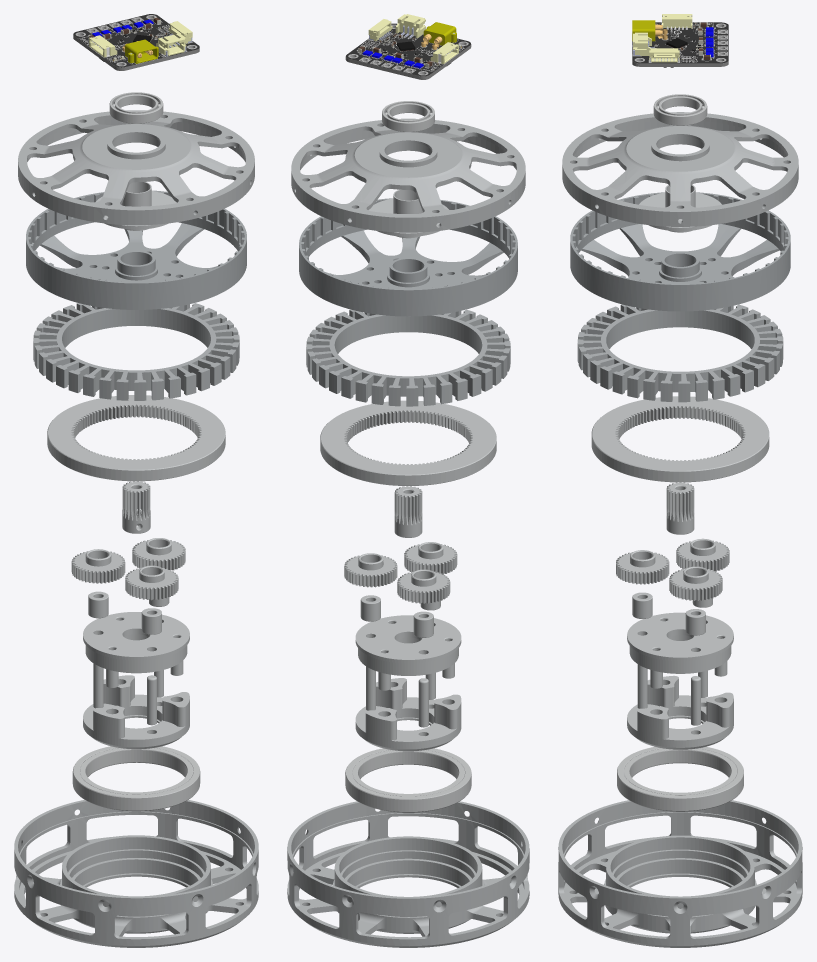
File: actuator.meshopt.glb
3 views of the same model, side by side, from view 1: azimuth 30°, elevation 25°; view 2: azimuth 150°, elevation 25°; view 3: azimuth 270°, elevation 25° (orthographic).
Visible parts, largest first — view 1: Front housing, Back housing, Motor rotor, Motor stator, Ring gear, Planet carrier / upper, Planet carrier / lower, Controller / moteus C1, Output bearing / 06, Output bearing / 02, Planet gear B, Planet gear A (+7 smaller); view 2: Front housing, Back housing, Motor rotor, Motor stator, Ring gear, Planet carrier / upper, Controller / moteus C1, Planet carrier / lower, Output bearing / 06, Output bearing / 02, Planet gear B, Planet gear C (+8 smaller); view 3: Front housing, Back housing, Motor rotor, Motor stator, Ring gear, Planet carrier / upper, Planet carrier / lower, Controller / moteus C1, Output bearing / 06, Output bearing / 02, Planet gear A, Planet gear C (+6 smaller).
Part boxes in pixels (x1,y1,x2,y2): Front housing: (14,800,258,947); Back housing: (18,110,254,225); Motor rotor: (26,190,246,309); Motor stator: (33,303,239,400); Ring gear: (47,395,225,481); Planet carrier / upper: (83,612,189,687); Planet carrier / lower: (83,675,189,749); Controller / moteus C1: (73,14,199,70); Output bearing / 06: (72,746,200,811); Output bearing / 02: (80,748,192,794); Planet gear B: (71,549,125,583); Planet gear A: (125,565,178,600); Front housing: (287,801,529,947); Back housing: (291,118,525,232); Motor rotor: (299,198,517,316); Motor stator: (306,309,510,406); Ring gear: (320,400,496,485); Planet carrier / upper: (355,615,461,690); Controller / moteus C1: (345,14,471,79); Planet carrier / lower: (355,678,461,751); Output bearing / 06: (345,748,471,812); Output bearing / 02: (352,750,464,795); Planet gear B: (397,569,450,603); Planet gear C: (344,553,397,587); Front housing: (558,800,802,947); Back housing: (562,112,798,226); Motor rotor: (570,192,790,311); Motor stator: (577,304,783,402); Ring gear: (591,396,769,482); Planet carrier / upper: (627,612,733,688); Planet carrier / lower: (627,675,733,749); Controller / moteus C1: (632,14,728,67); Output bearing / 06: (617,746,743,811); Output bearing / 02: (624,748,736,794); Planet gear A: (616,550,669,584); Planet gear C: (669,566,722,600).
Size of the model in its own units: 96 by 379 by 96.
1 material, 1 textured.
